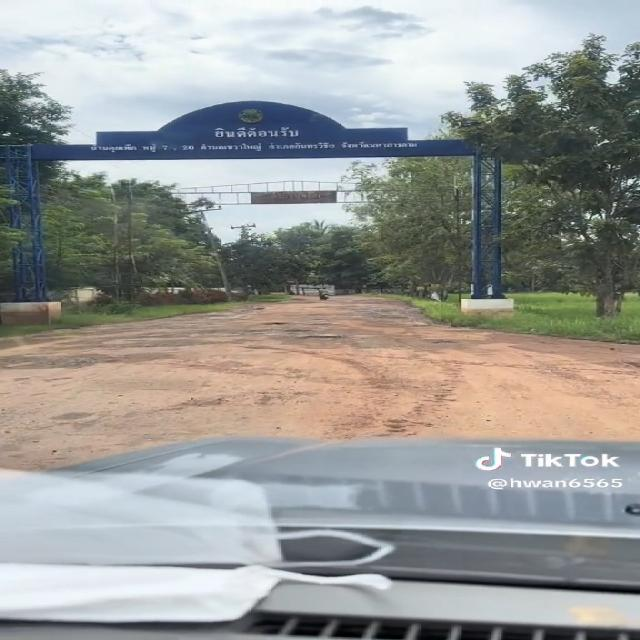Poth-hole: (313, 360, 595, 416)
